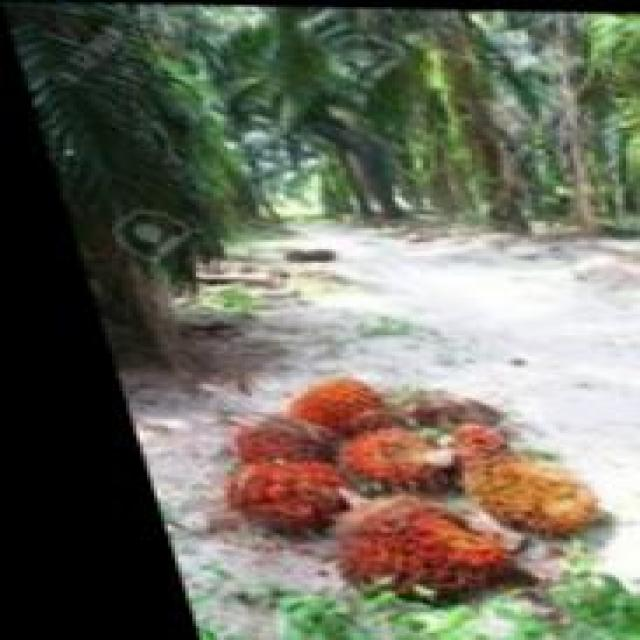Ripefruit: (276, 496, 497, 593), (428, 447, 590, 538), (178, 450, 315, 527), (294, 424, 434, 491), (255, 368, 364, 428), (184, 413, 302, 462)
